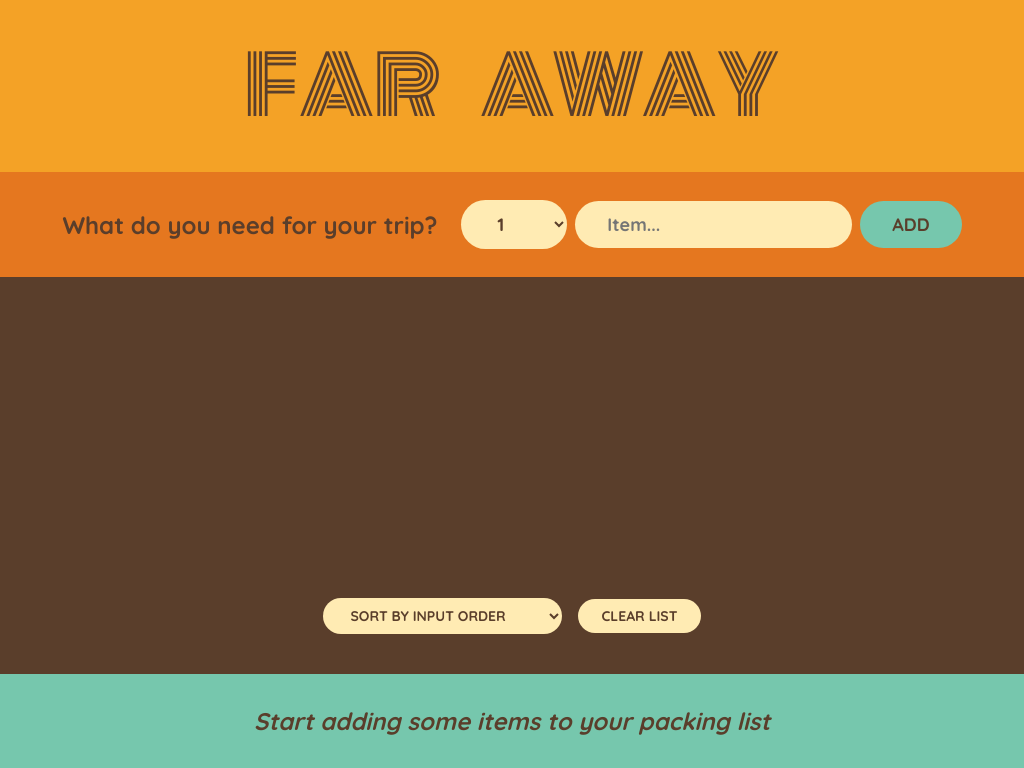
App integration tests › updates stats correctly after adding and packing items
In the field with placeholder "Item...": (714, 224) [575,201,852,248], type "Backpack"
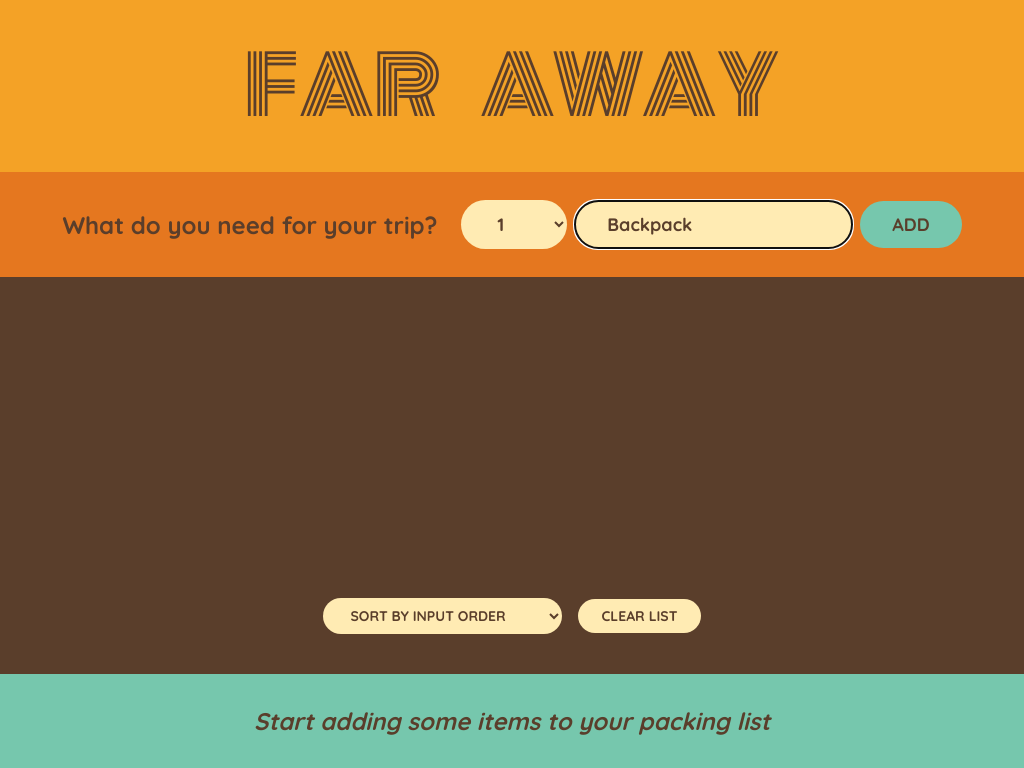
Click the button "Add": (911, 224) [860,201,962,248]
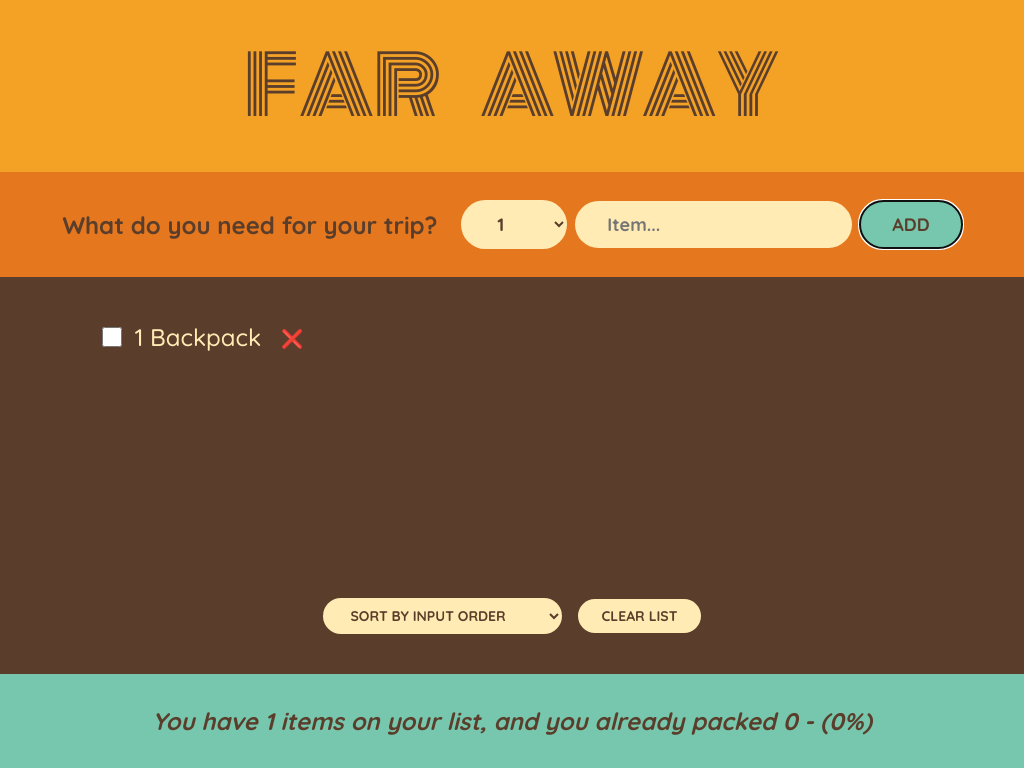
In the field with placeholder "Item...": (714, 224) [575,201,852,248], type "Water bottle"
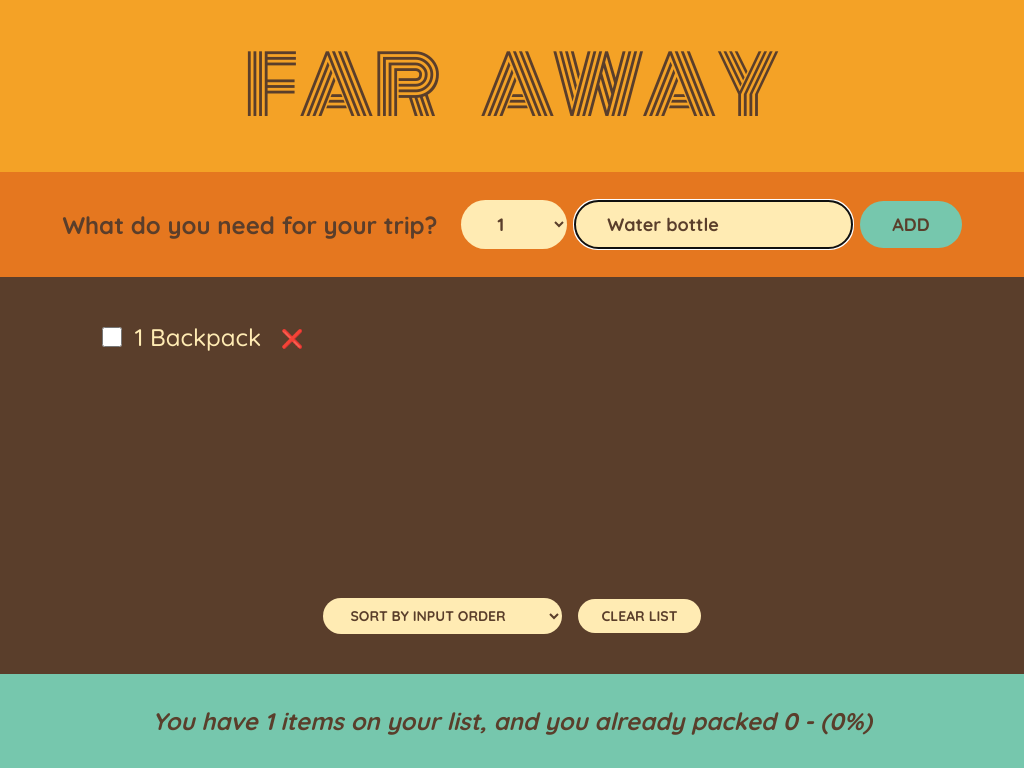
Click the button "Add": (911, 224) [860,201,962,248]
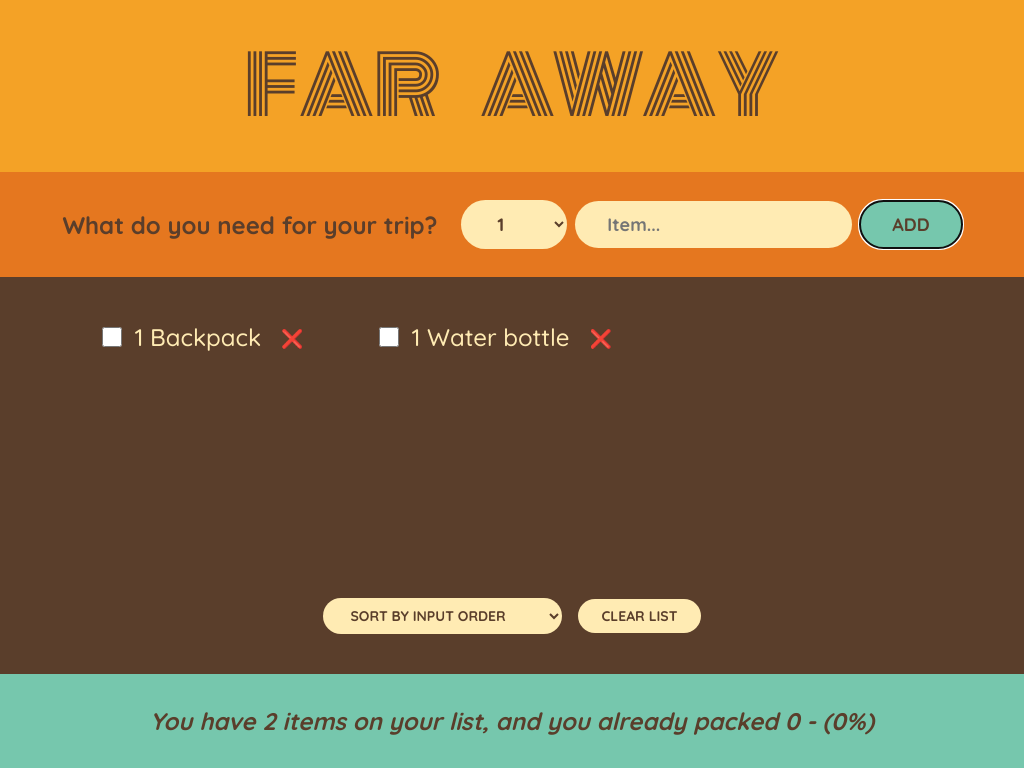
expect the text "You have 2 items on your list, and you already packed 0" is shown: met, box [150,706,874,736]
Click the checkbox in the row of "Backpack": (112, 336) [102,326,122,346]
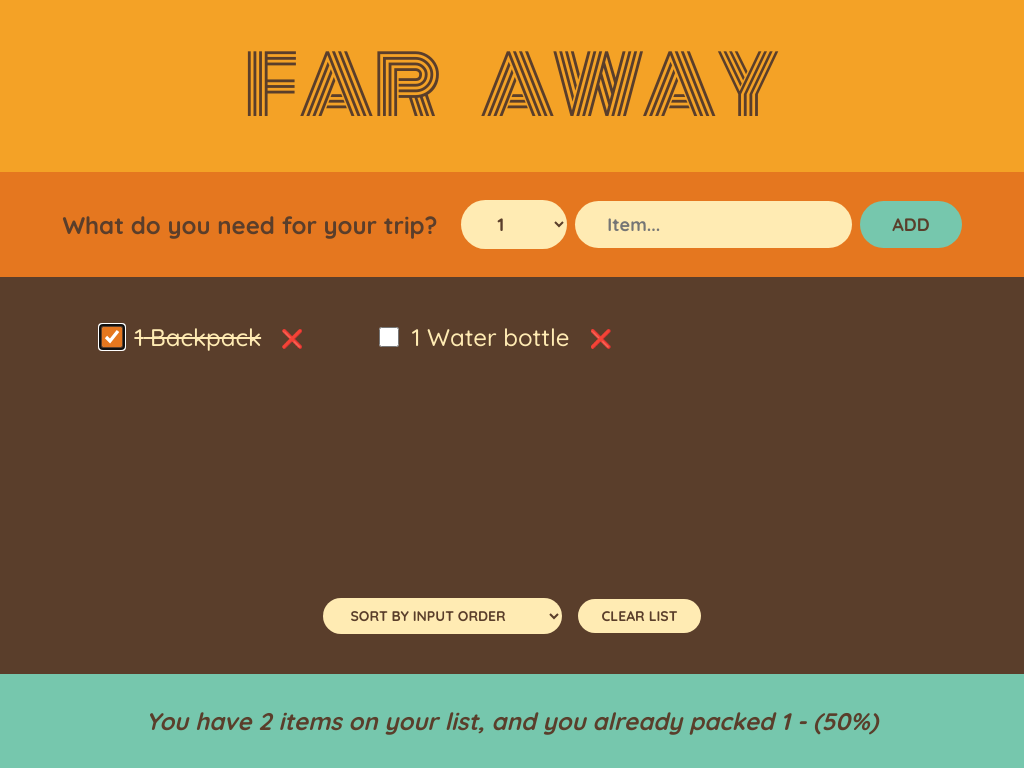
expect the text "You have 2 items on your list, and you already packed 1" is shown: met, box [146,706,878,736]
